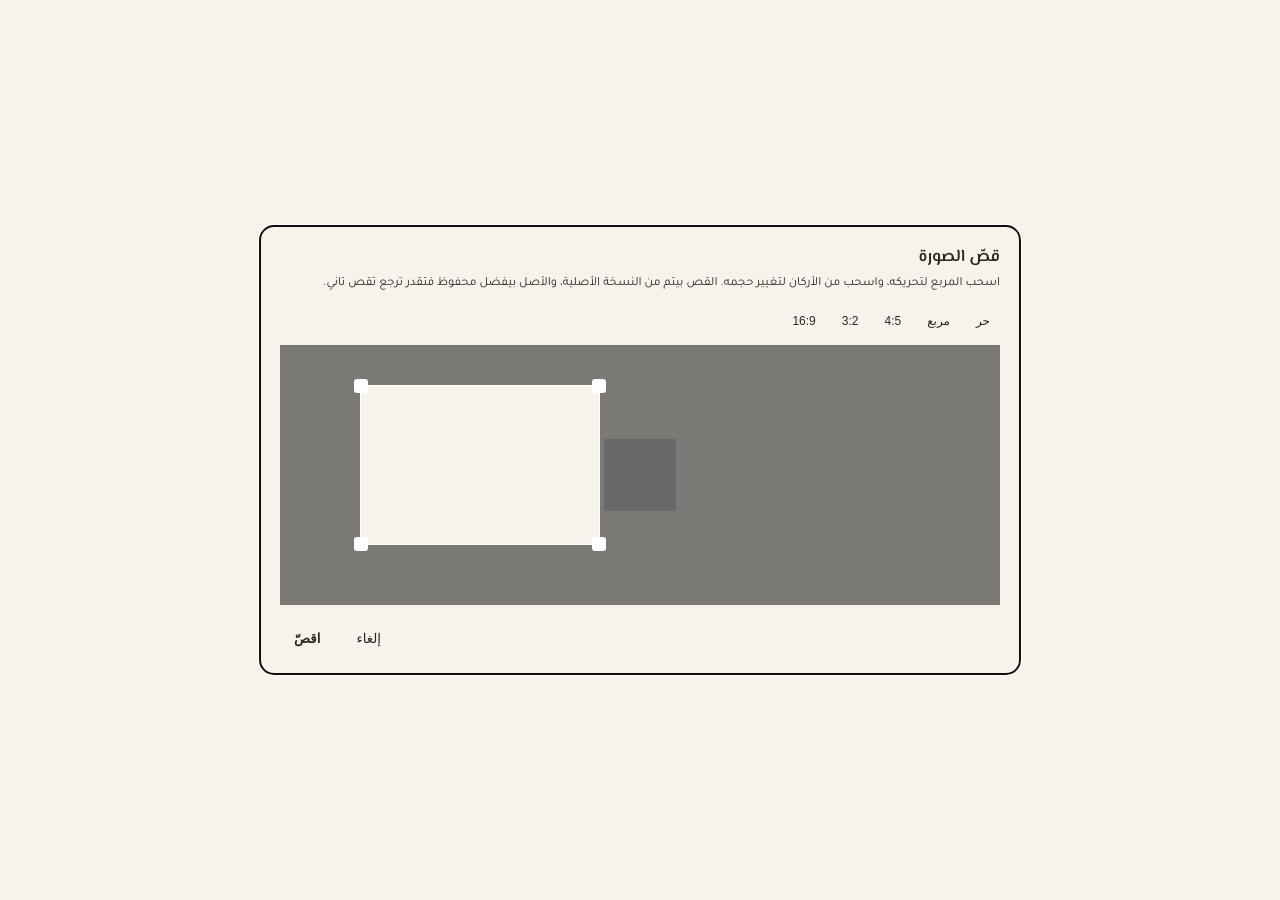
Test case: CropDialog › sends the box as ratios of the image, adds the new asset to the library and reports it
The image size is (1280, 900).
Click the button "اقصّ".
click(307, 638)  # box [280,622,334,654]
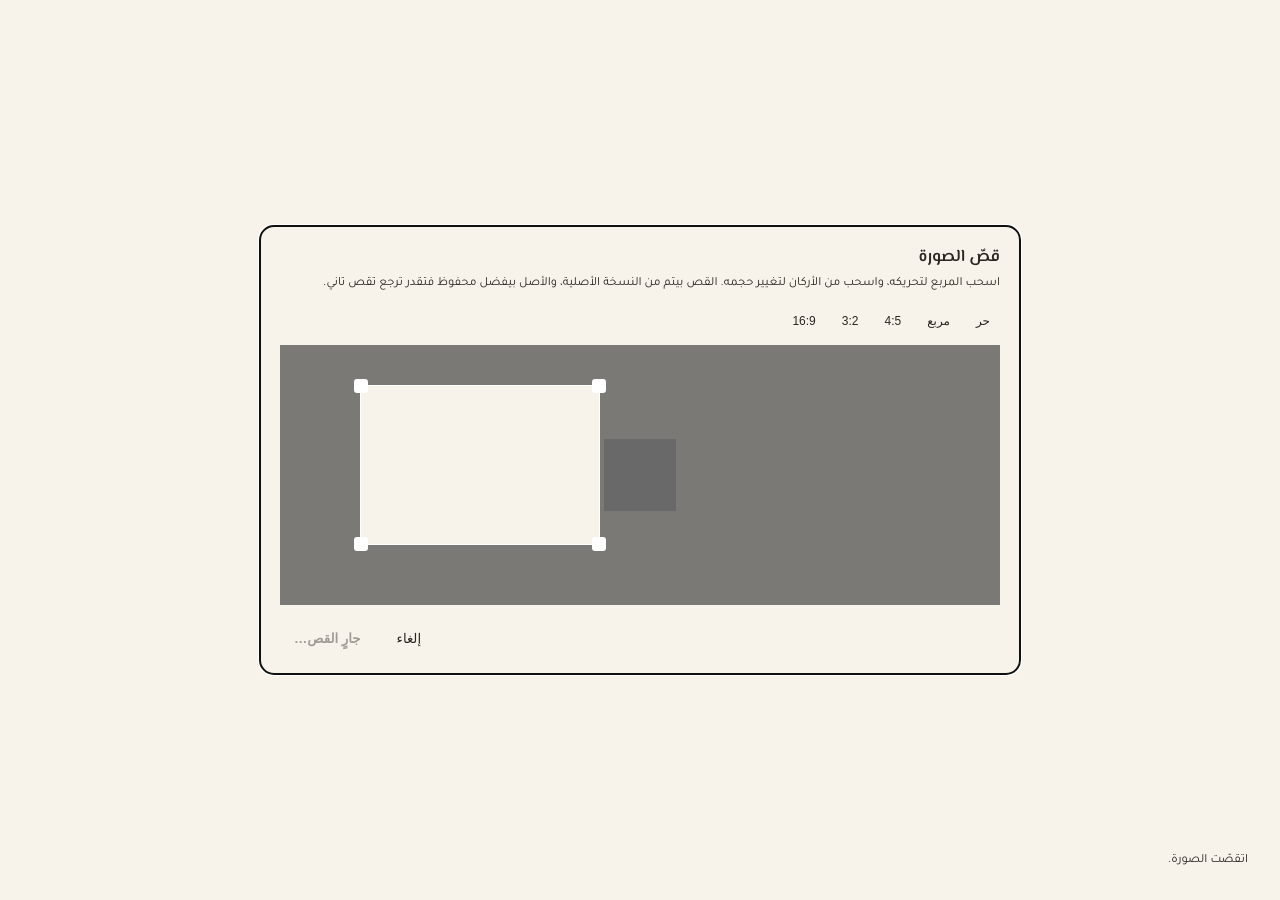
Result: the text "اتقصّت الصورة." is shown at [1168,854,1248,866]
